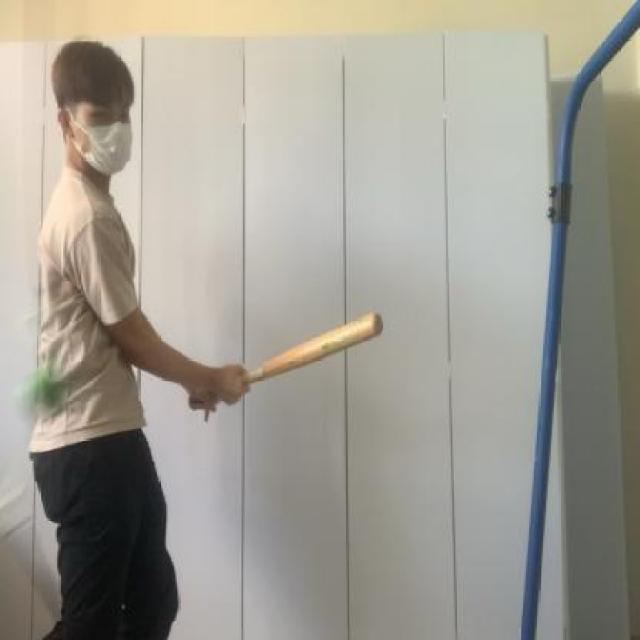baseball: (8, 360, 75, 418)
